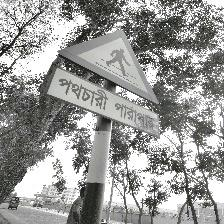Pedestrian-crossing: (43, 28, 161, 138)
